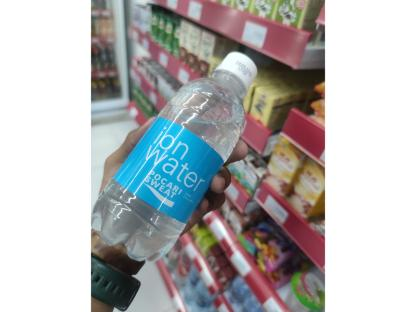Plastic Bottle: (93, 46, 267, 274)
